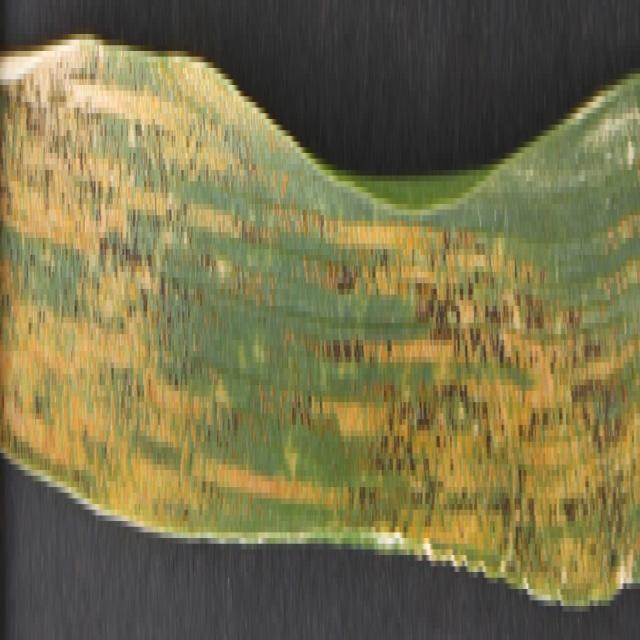leaf rust: (1, 5, 639, 578)
